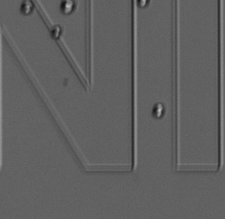Dead Cell: (19, 1, 35, 15), (49, 25, 63, 40)
Living Cell: (151, 101, 166, 121), (59, 1, 77, 16), (133, 1, 151, 8)
